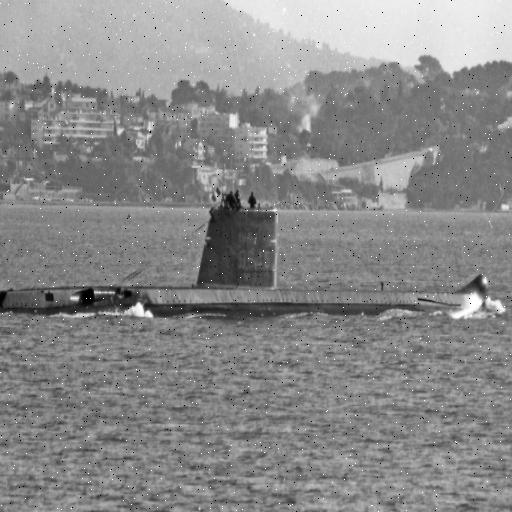submarine: (1, 206, 489, 319)
